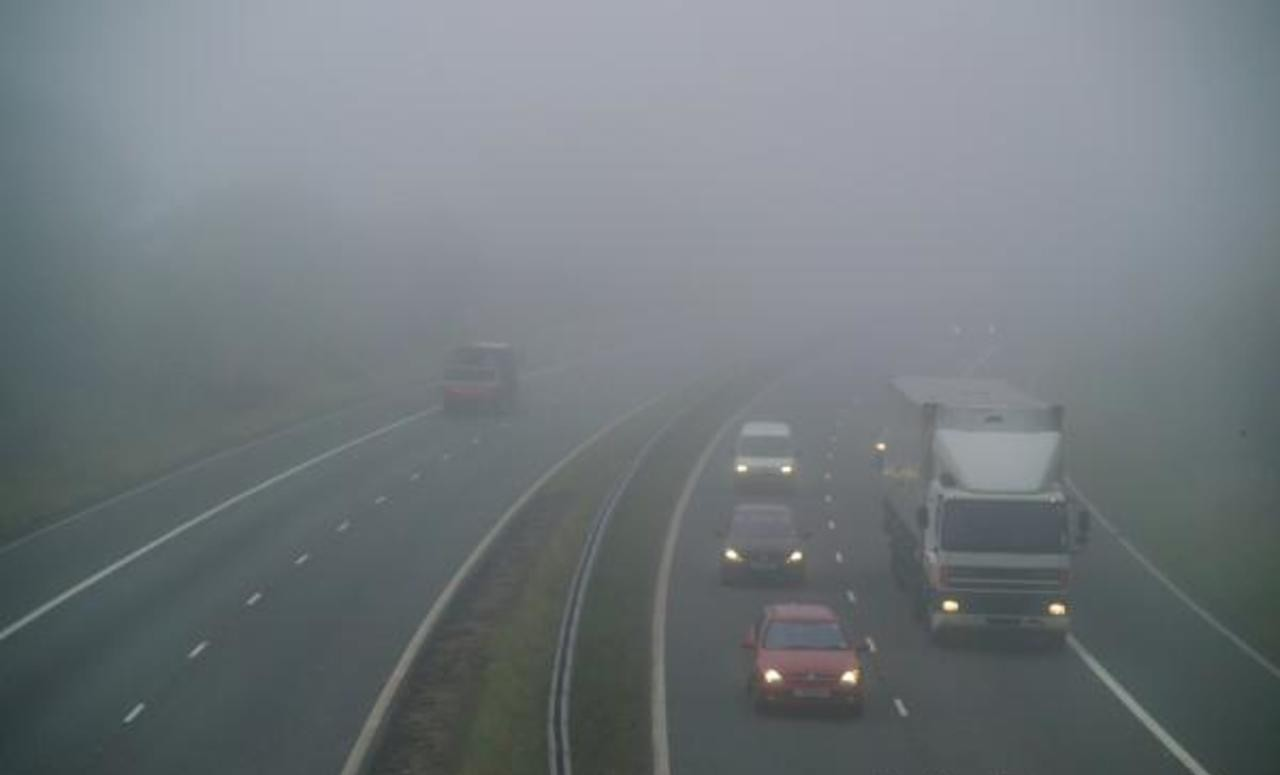bus: (441, 337, 517, 413)
car: (744, 606, 867, 719), (719, 503, 806, 588), (732, 420, 796, 496)
truck: (883, 368, 1089, 652)
